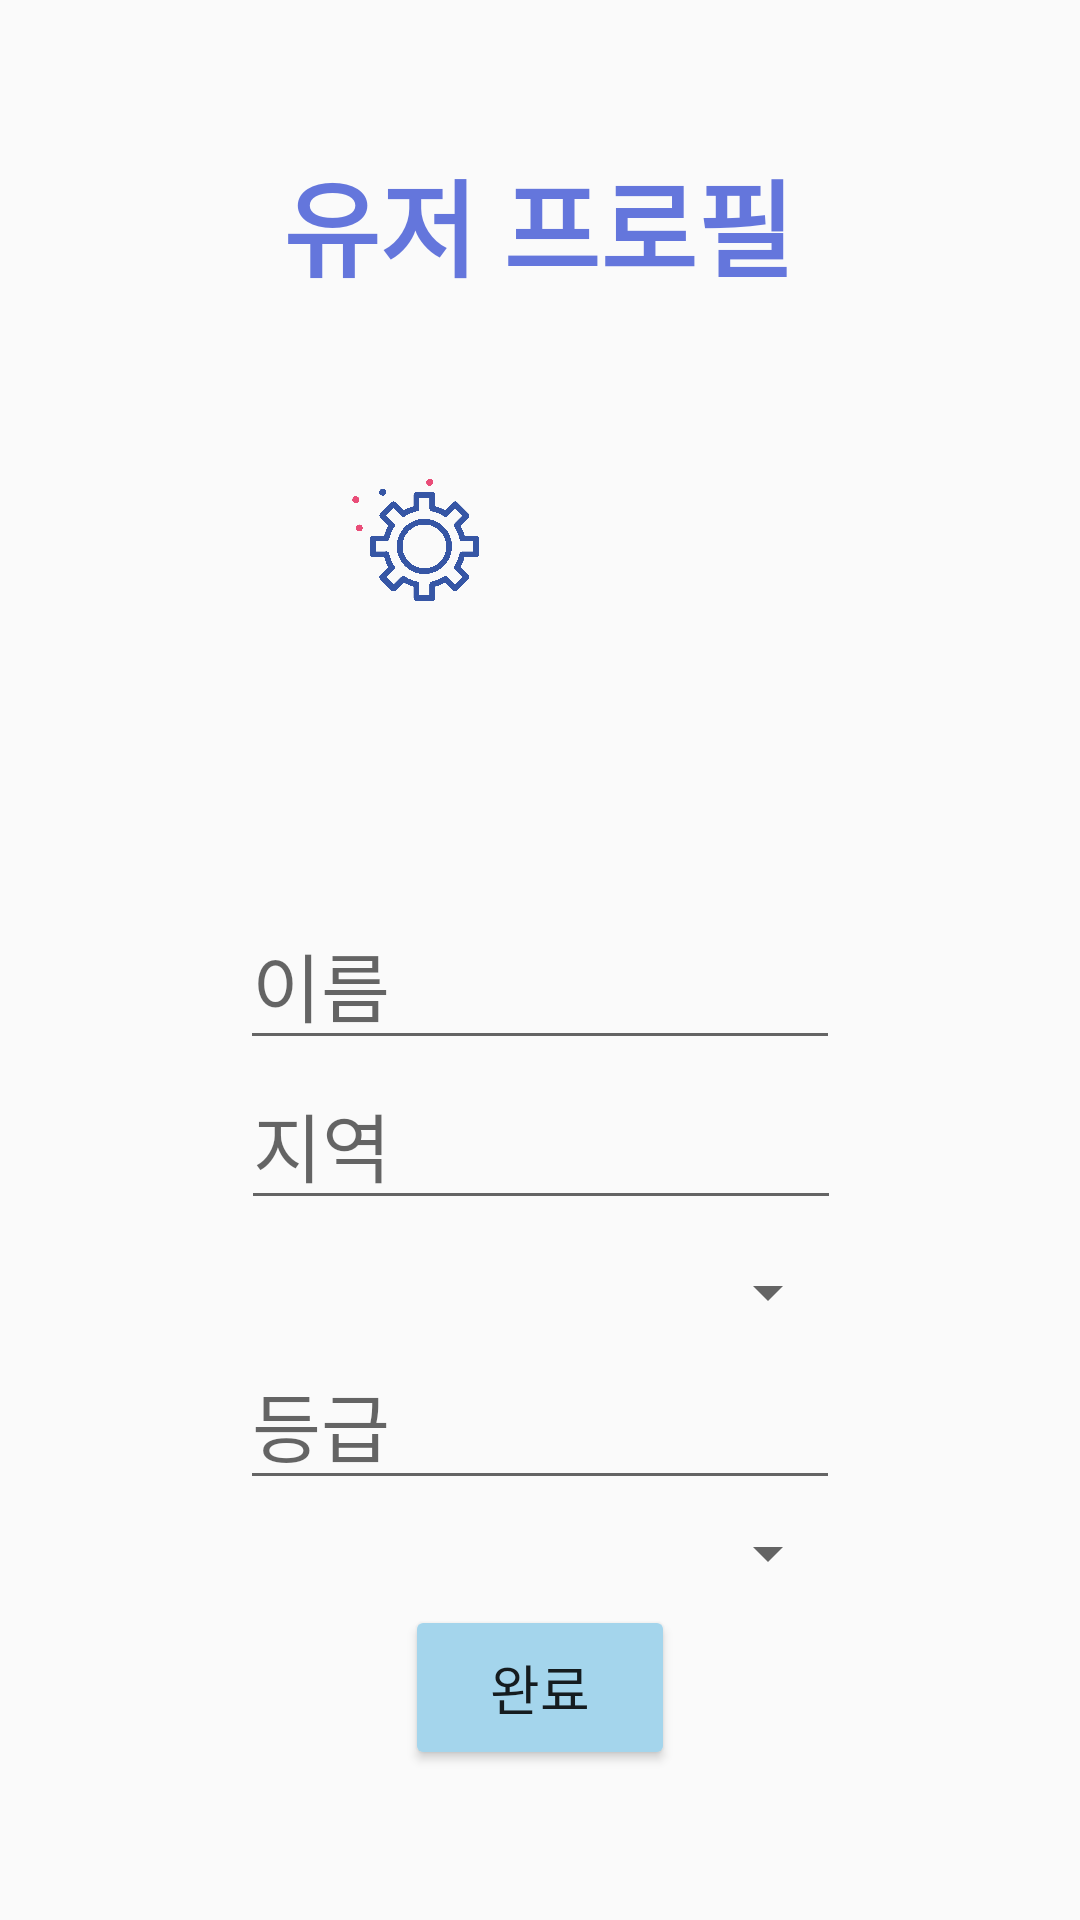

Icon click points for this 1080*1920 phone screenshot, format [x,y]:
setting: [415,540]
